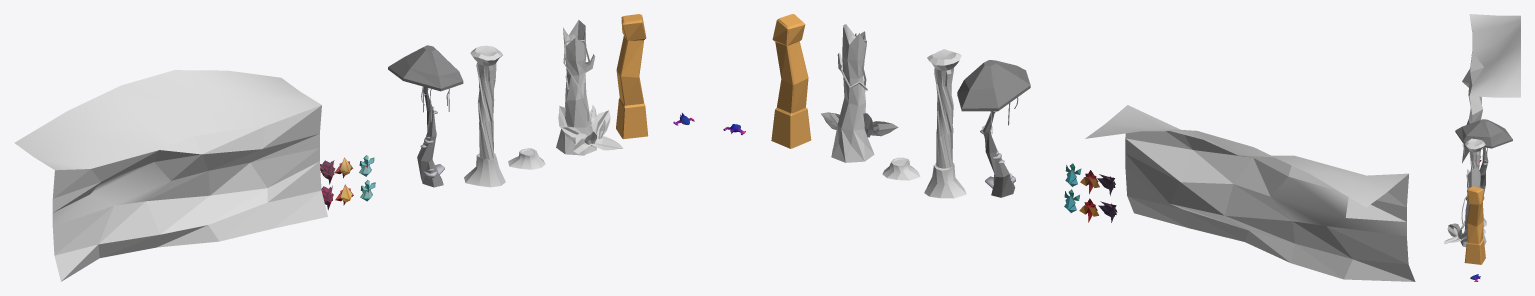
The model's file is Cave_mushroom.FBX.
3 renders of one model, left to right at view 1: azimuth 30°, elevation 25°; view 2: azimuth 150°, elevation 25°; view 3: azimuth 270°, elevation 25°, orthographic. The views are drawn at different scales.
Parts seen in each view (by area): view 1: pCube4, Mushroom, Box002, tree_base, Lava_stream_2, Leaves, Volcano_base_2, Volcano_base, Mushroom_extras; view 2: pCube4, Box002, Mushroom, tree_base, Lava_stream_2, Volcano_base_2, Leaves, Volcano_base; view 3: pCube4, Box002, Mushroom, tree_base, Lava_stream_2, Leaves, Vines.
Part boxes in pixels (left/top/right/bottom): pCube4: left=14, top=70, right=327, bottom=281; Mushroom: left=388, top=45, right=463, bottom=187; Box002: left=616, top=14, right=648, bottom=139; tree_base: left=556, top=20, right=596, bottom=155; Lava_stream_2: left=470, top=45, right=502, bottom=159; Leaves: left=558, top=104, right=623, bottom=155; Volcano_base_2: left=464, top=153, right=505, bottom=187; Volcano_base: left=508, top=148, right=545, bottom=169; Mushroom_extras: left=420, top=86, right=449, bottom=178; pCube4: left=1085, top=105, right=1415, bottom=281; Box002: left=771, top=14, right=811, bottom=148; Mushroom: left=957, top=60, right=1030, bottom=197; tree_base: left=831, top=24, right=874, bottom=162; Lava_stream_2: left=927, top=49, right=961, bottom=168; Volcano_base_2: left=924, top=162, right=966, bottom=198; Leaves: left=821, top=112, right=898, bottom=137; Volcano_base: left=882, top=157, right=920, bottom=180; pCube4: left=1462, top=14, right=1520, bottom=162; Box002: left=1464, top=186, right=1485, bottom=264; Mushroom: left=1455, top=119, right=1512, bottom=200; tree_base: left=1460, top=165, right=1486, bottom=247; Lava_stream_2: left=1465, top=138, right=1485, bottom=170; Leaves: left=1444, top=220, right=1467, bottom=244; Vines: left=1461, top=174, right=1469, bottom=224.
Size of what is drawn, in the model's own units: 9639 by 2182 by 1580.
Materials: 8 (7 with a texture image).
